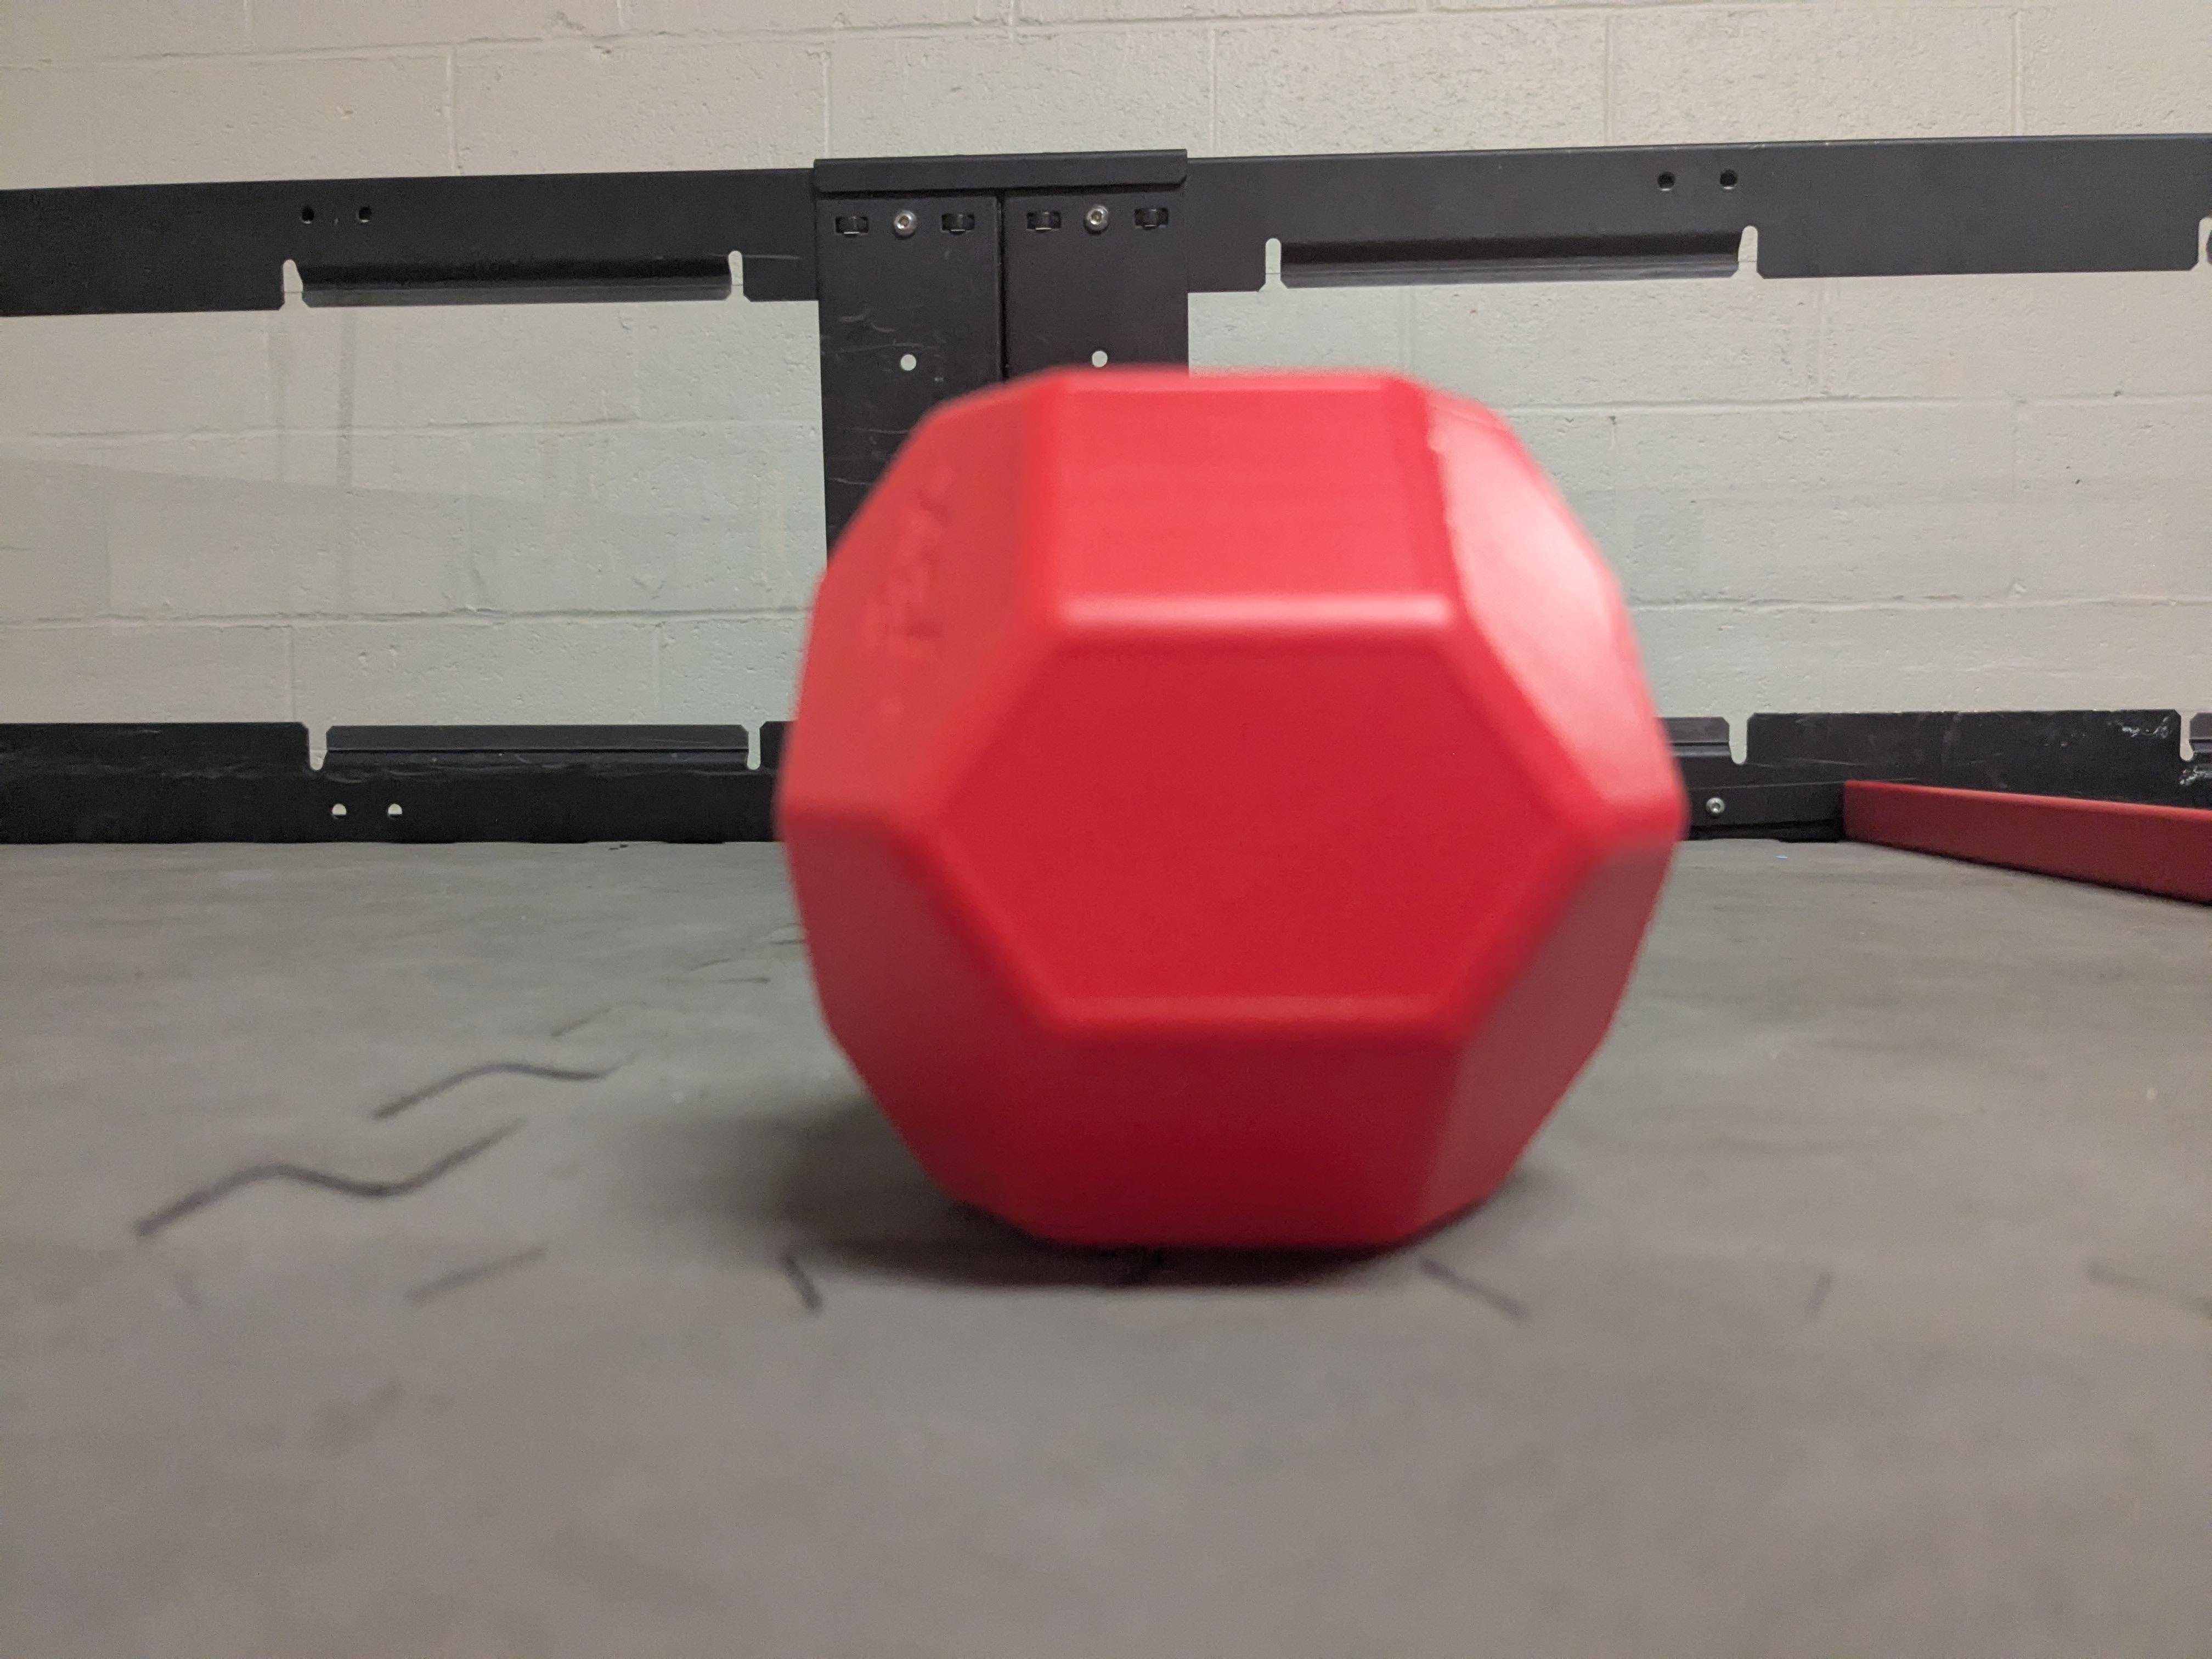Vex-Pieces-RED: (779, 366, 1686, 1249)
